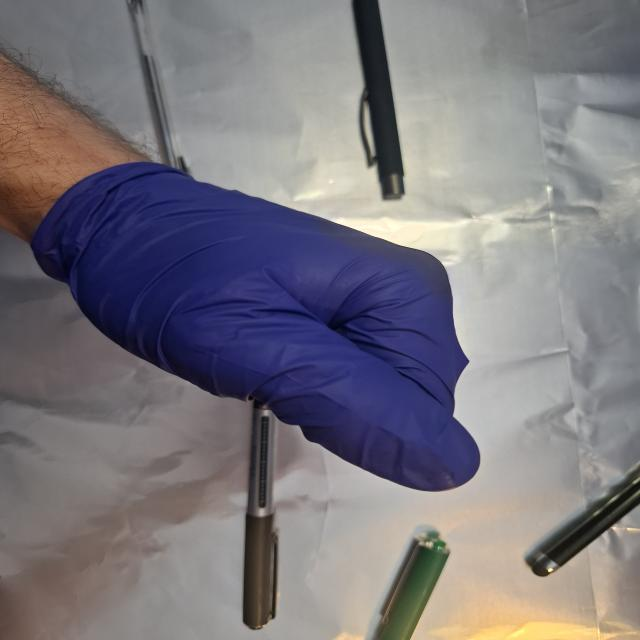glove_on: (34, 160, 485, 496)
